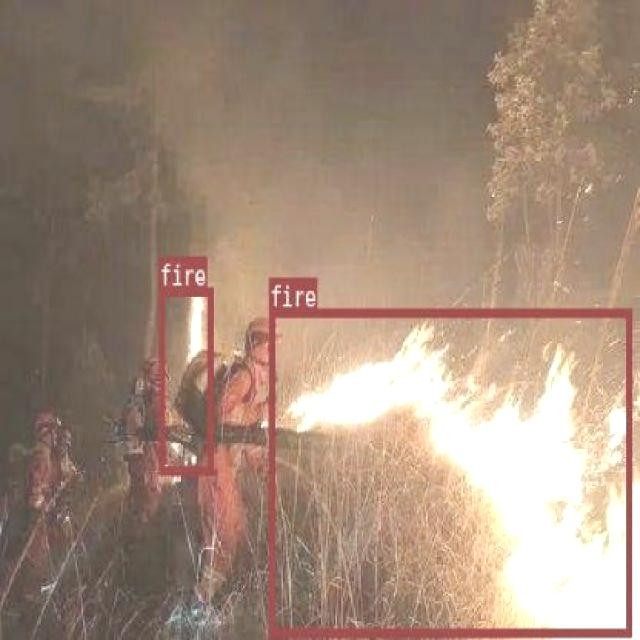fire: (268, 308, 630, 636), (159, 285, 212, 473)
